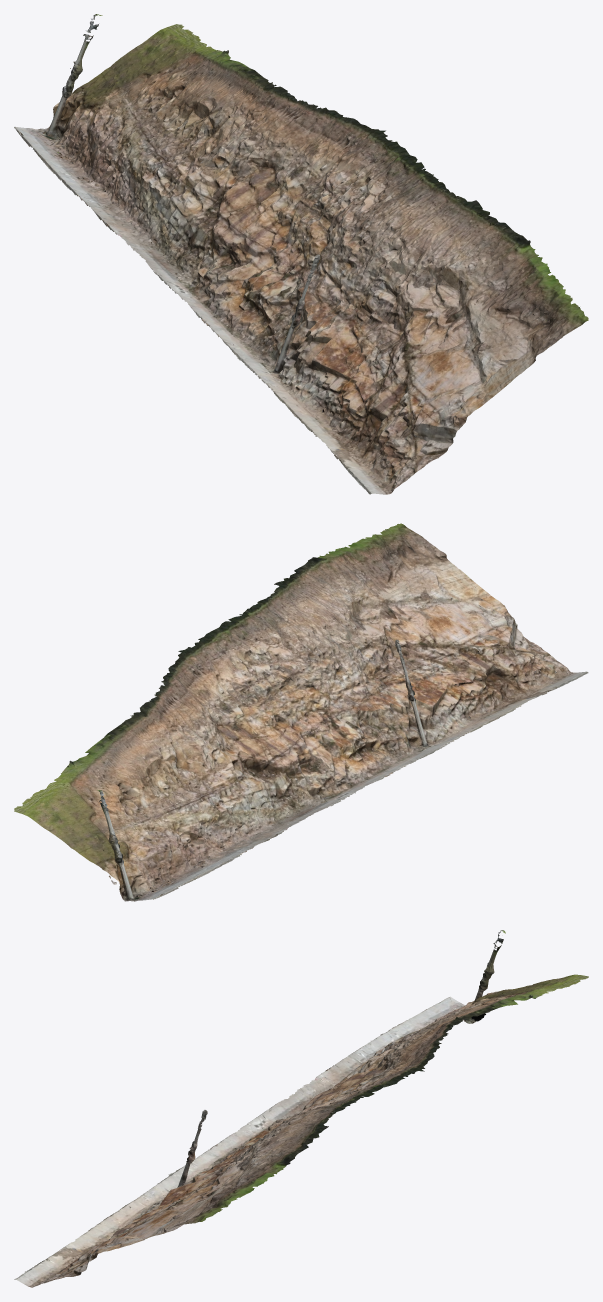
3 renders of one model, top to bottom at view 1: azimuth 30°, elevation 25°; view 2: azimuth 150°, elevation 25°; view 3: azimuth 330°, elevation 25°, orthographic. The views are drawn at different scales.
Bounding box in the file's own units: 13.42 × 7.52 × 40.43.
Materials: 1 (1 with a texture image).
